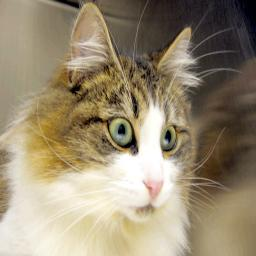catnose: (142, 176, 164, 200)
